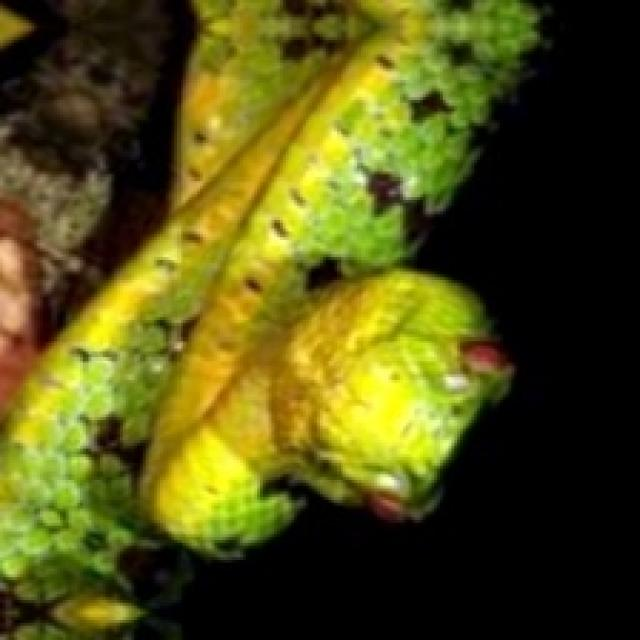philippine pitviper: (0, 0, 534, 637)
